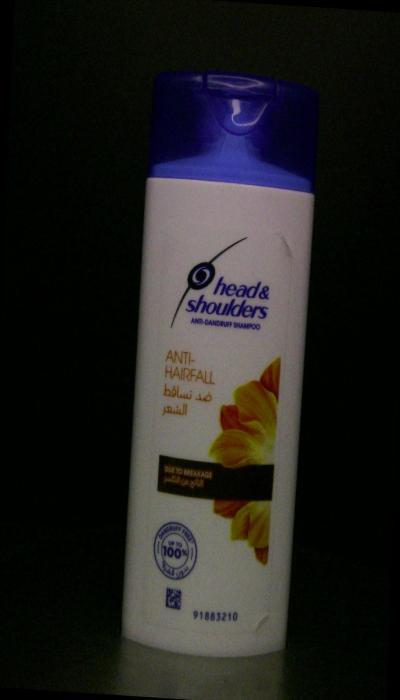adhesion_marg: (250, 610, 274, 636), (278, 230, 296, 260)
